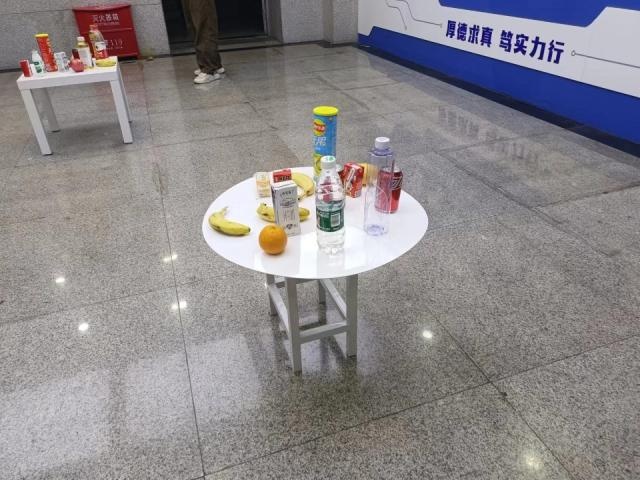Canned_drinks: (375, 166, 404, 213)
bottle: (314, 155, 346, 255), (363, 136, 394, 236)
cylinder: (312, 105, 338, 185)
drink_box: (270, 180, 303, 236), (346, 162, 364, 198), (273, 168, 292, 198)
